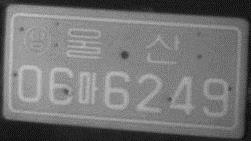0: (15, 63, 44, 103)
2: (134, 71, 164, 114)
4: (166, 74, 196, 116)
6: (102, 68, 131, 111), (47, 65, 74, 107)
9: (200, 76, 230, 118)
마: (75, 69, 100, 107)
영: (21, 24, 52, 58)
울산_D: (64, 26, 182, 67)
